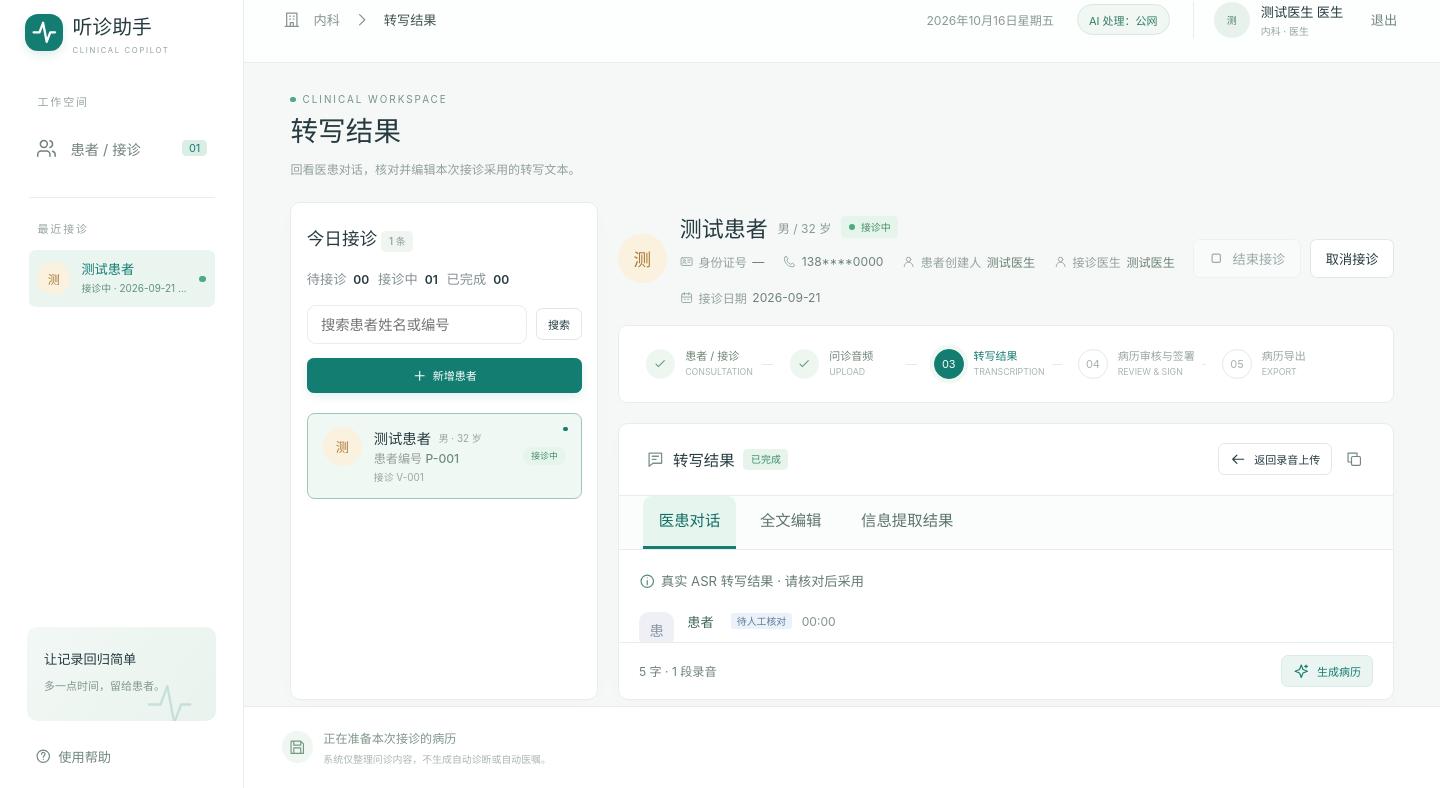
Test case: ASR raw preview › isolates preview loading failures from the canonical visit data
Click the button with aria-label "返回录音上传". click: (1275, 459)
box: [1218, 443, 1332, 475]
(page scrolled)
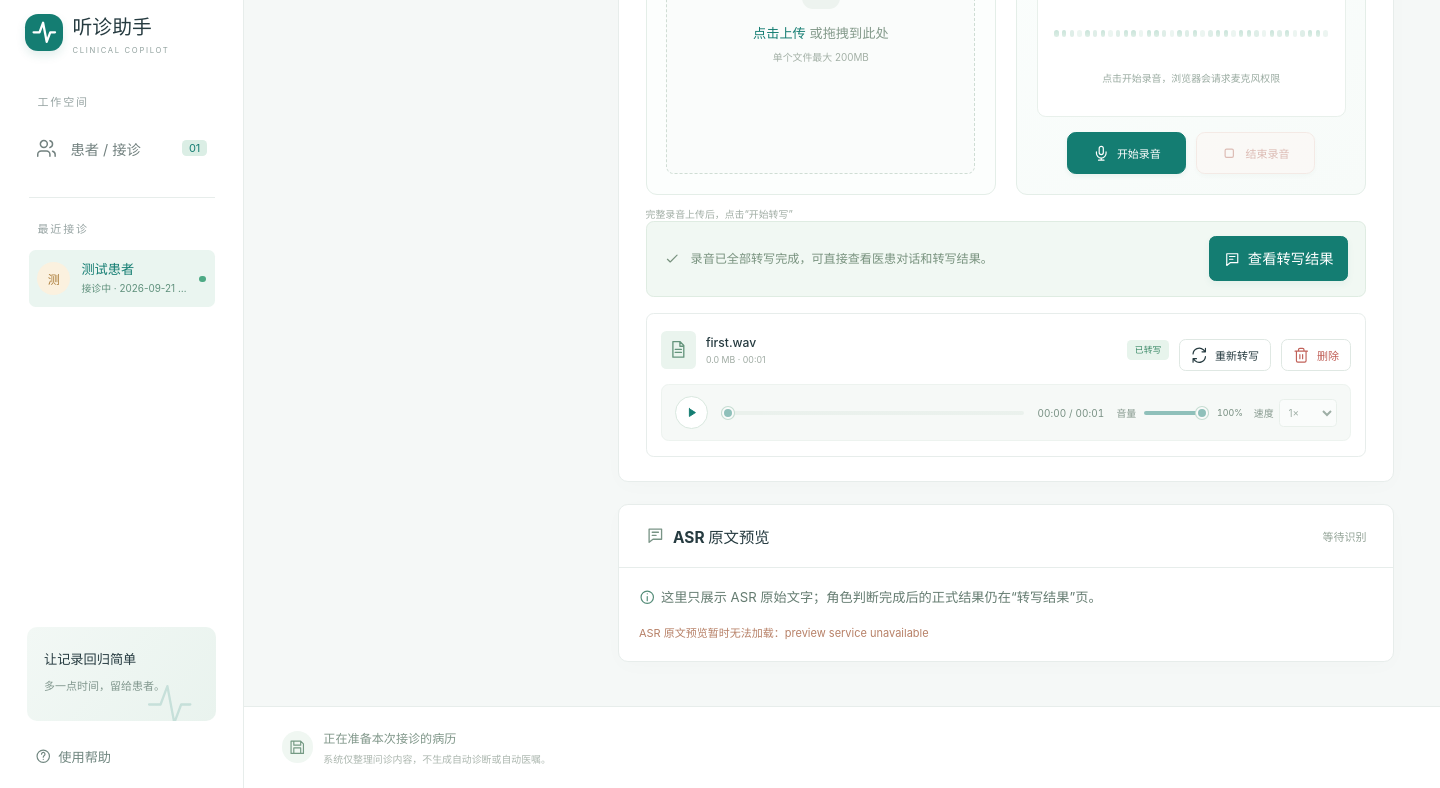
Check: the text "转写结果" is shown, box [690, 251, 993, 266]
Check: the element with class "asr-preview-card" shows "ASR 原文预览暂时无法加载：preview service unavailable", box [639, 626, 929, 640]
